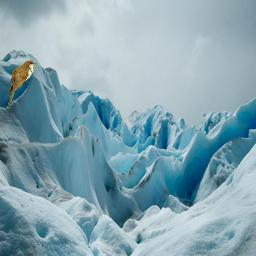Cuckoo: (7, 60, 37, 111)
